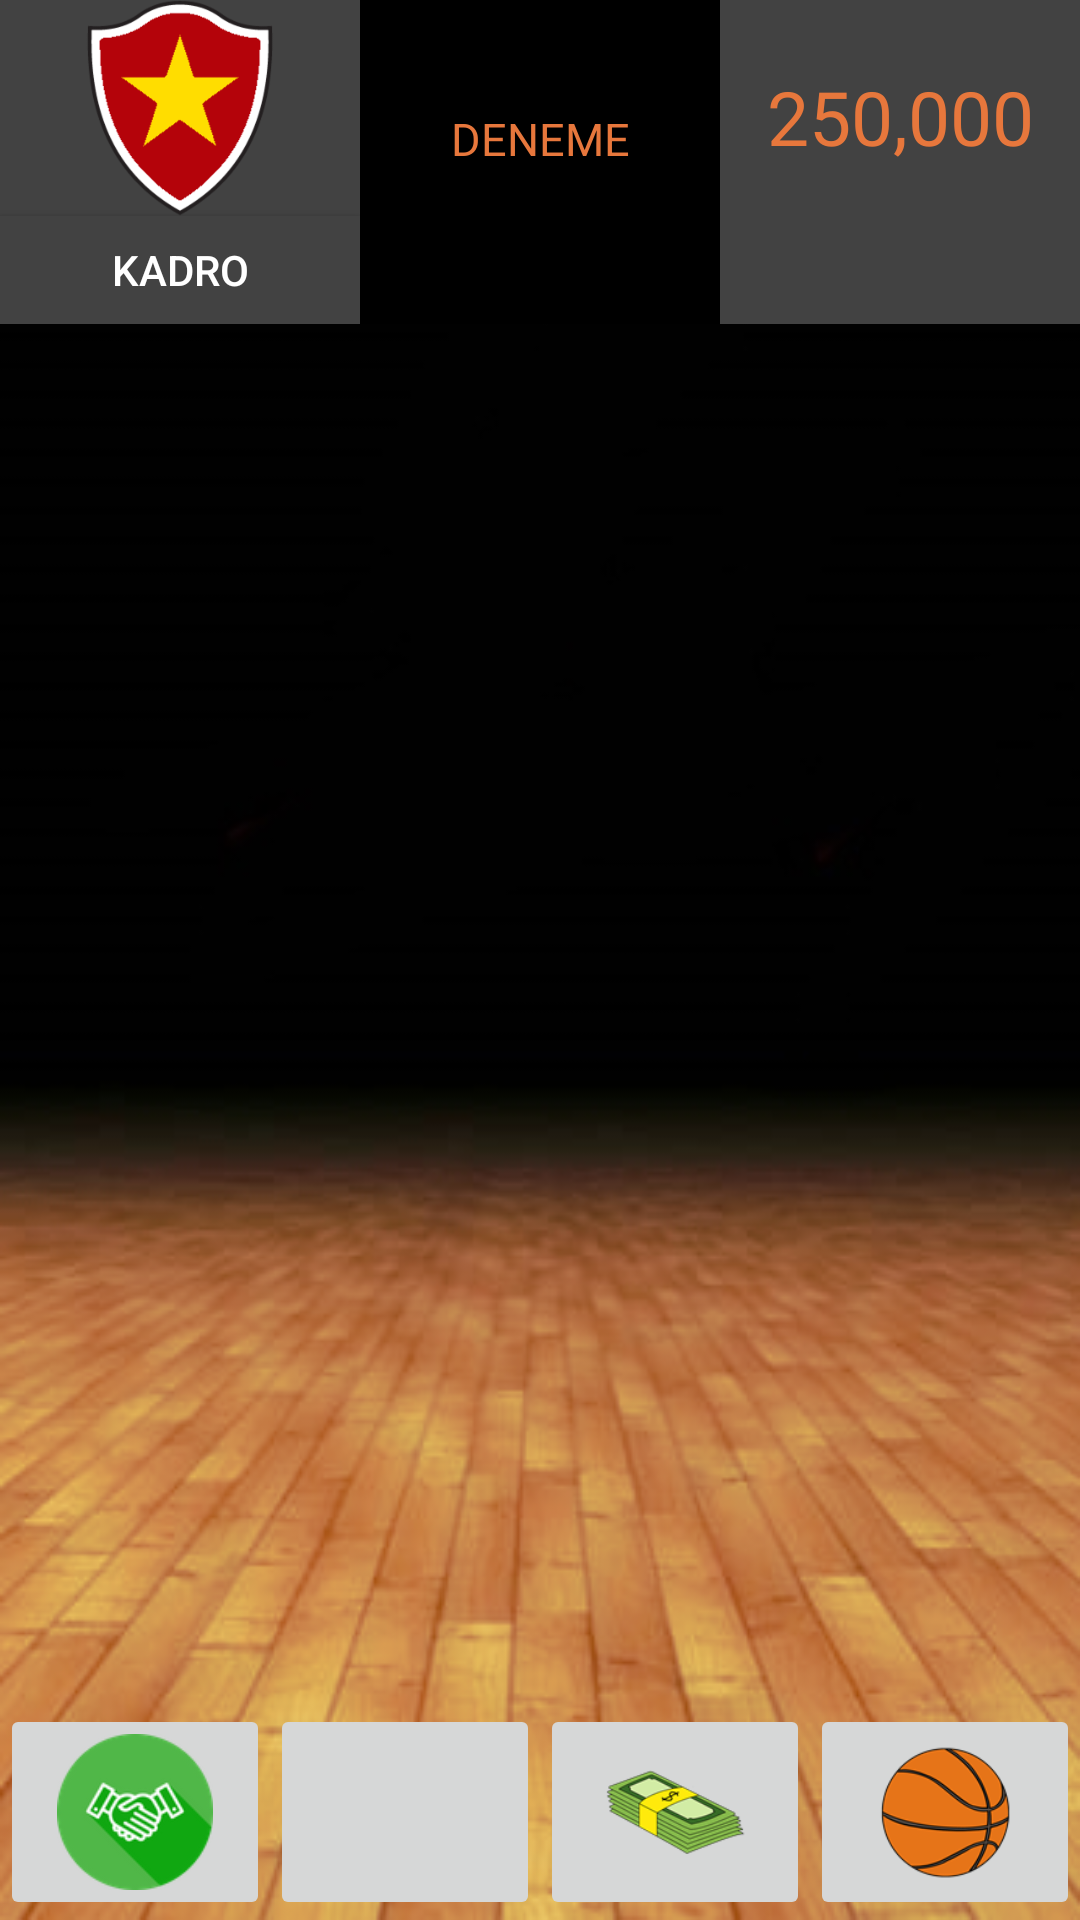

Point at icon controls on the screen. Image size 1080x1920, points as [x,y].
moneyy: [675,1812]
